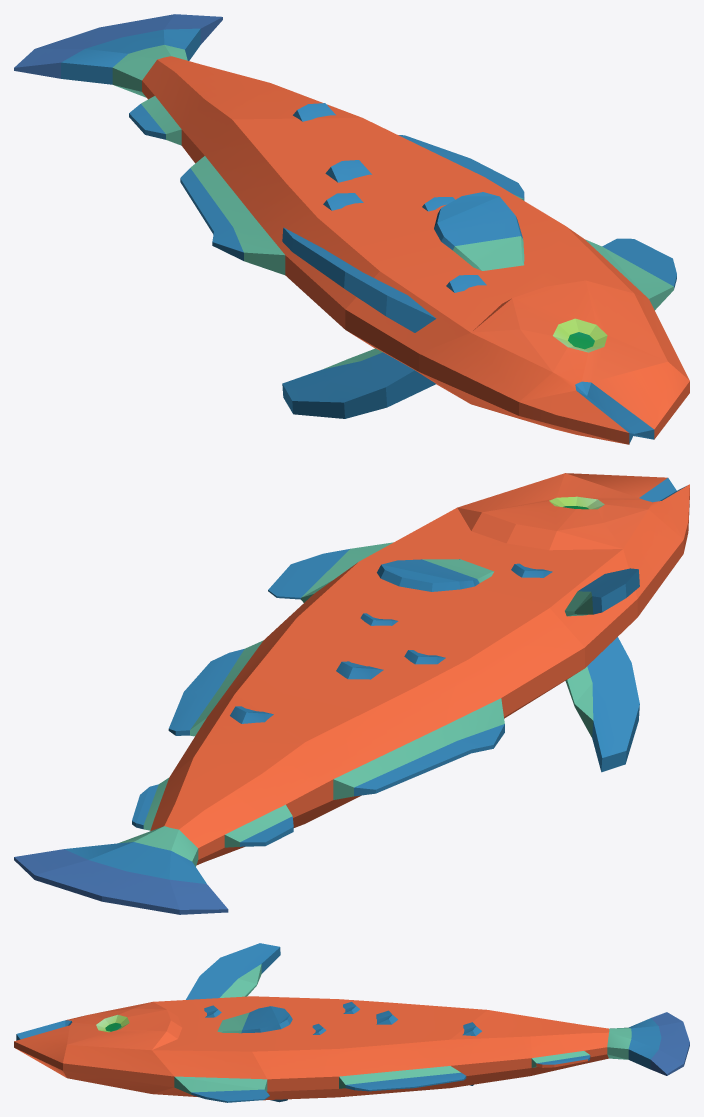
File: fish_8.FBX
The picture shows the model from 3 angles, top to bottom: view 1: azimuth 30°, elevation 25°; view 2: azimuth 150°, elevation 25°; view 3: azimuth 270°, elevation 25°; orthographic projection. The views are drawn at different scales.
Visible parts, largest first — view 1: fish_8; view 2: fish_8; view 3: fish_8.
Part boxes in pixels (x1,y1,x2,y2): fish_8: [14, 14, 689, 444]; fish_8: [14, 473, 689, 914]; fish_8: [14, 943, 689, 1102].
Bounding box in the file's own units: 17.72 × 8.42 × 47.99.
